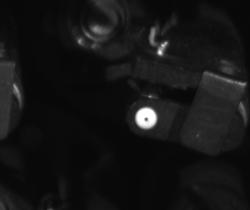fiber: (131, 103, 163, 133)
